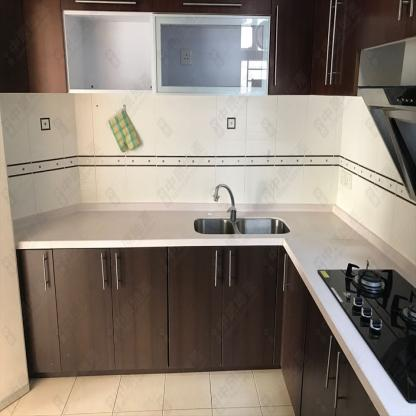Cupboard: (15, 245, 378, 415), (0, 0, 416, 95)
Exhaust Hood: (357, 35, 416, 203)
Faucet: (214, 183, 243, 220)
Sink: (192, 216, 286, 234)
Stove: (314, 261, 416, 405)
